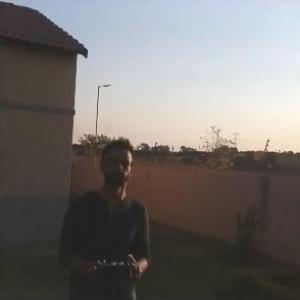follow: (54, 134, 156, 299)
